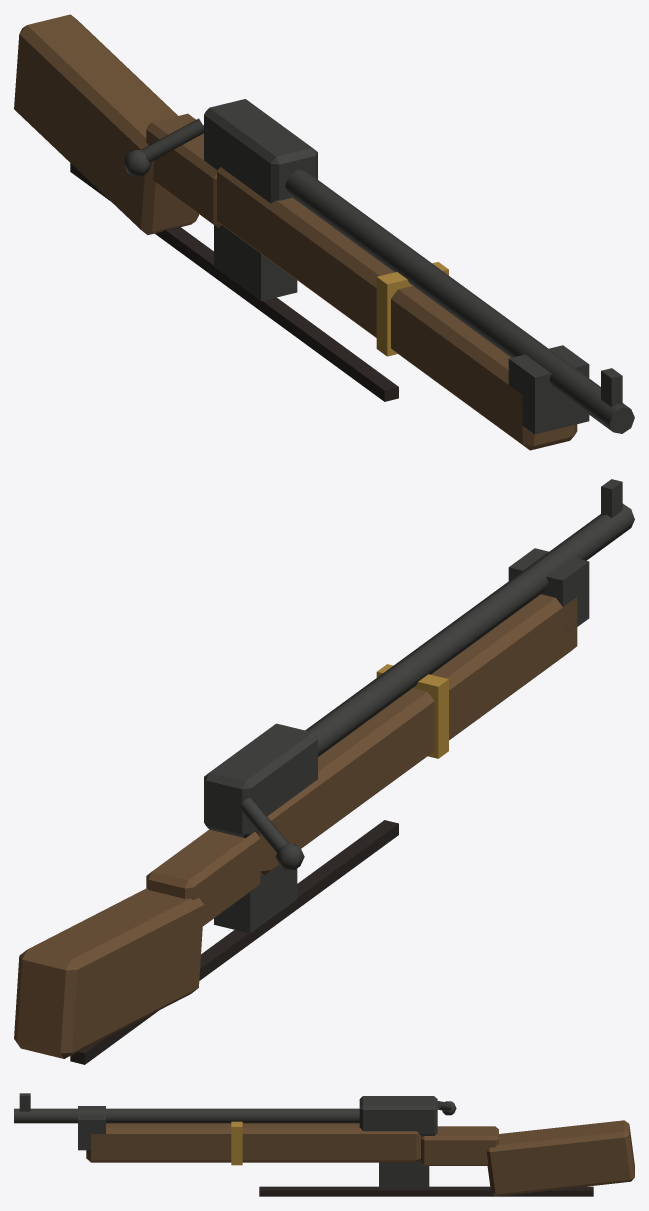
Rendered from rifle_rat.glb.
The picture shows the model from 3 angles, top to bottom: view 1: azimuth 30°, elevation 25°; view 2: azimuth 150°, elevation 25°; view 3: azimuth 270°, elevation 25°; orthographic projection. The views are drawn at different scales.
Parts seen in each view (by area): view 1: weapon; view 2: weapon; view 3: weapon.
Boxes of the visible parts, x1,y1,x2,y2 form: weapon: (14, 14, 634, 450); weapon: (14, 479, 634, 1064); weapon: (14, 1093, 634, 1196).
Size of the model in its own units: 0.1529 by 0.2327 by 1.31.
